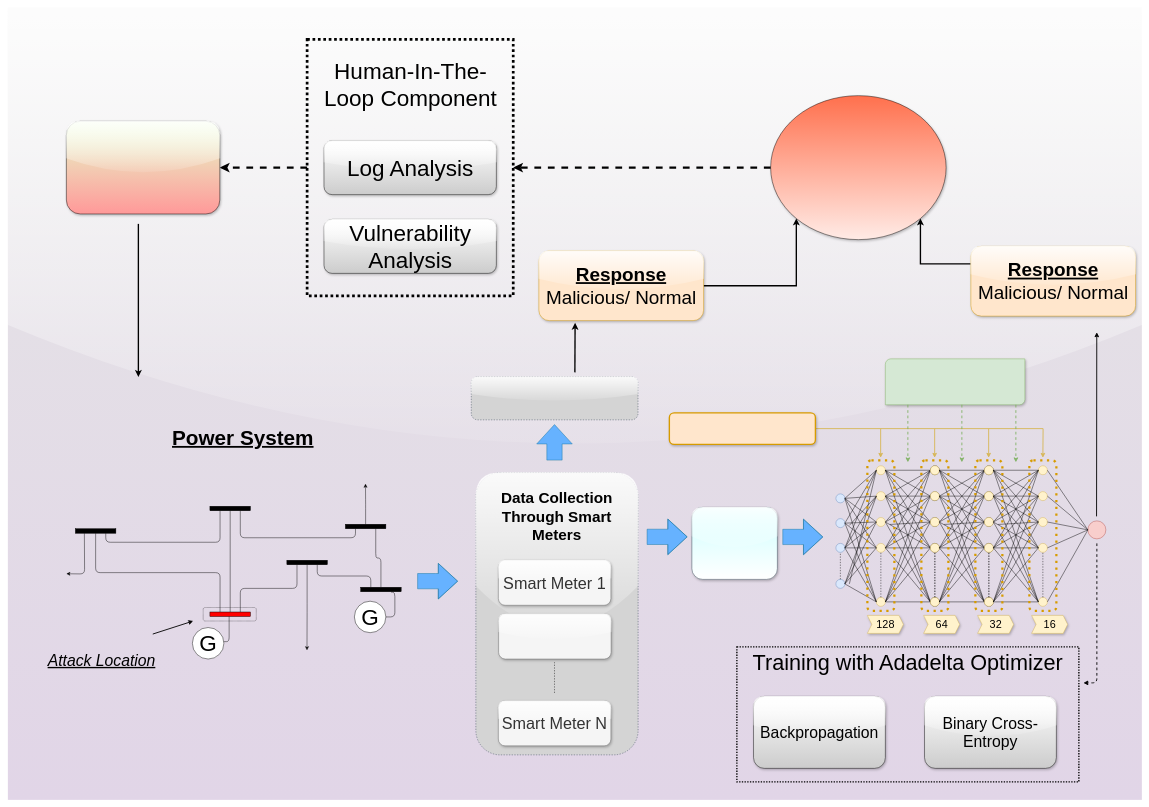
This 1149x807 diagram has some shape labels left out. Here are the shapes that lost their labels. From the top down, the centre of each, then its label:
At (x=143, y=168): "Response".
At (x=858, y=168): "Alarm System".
At (x=554, y=398): "State Estimation".
At (x=955, y=382): "Dropout of 30%".
At (x=743, y=429): "L2 regularization".
At (x=735, y=544): "Feature Engineering".
At (x=555, y=637): "Smart Meter 2".
